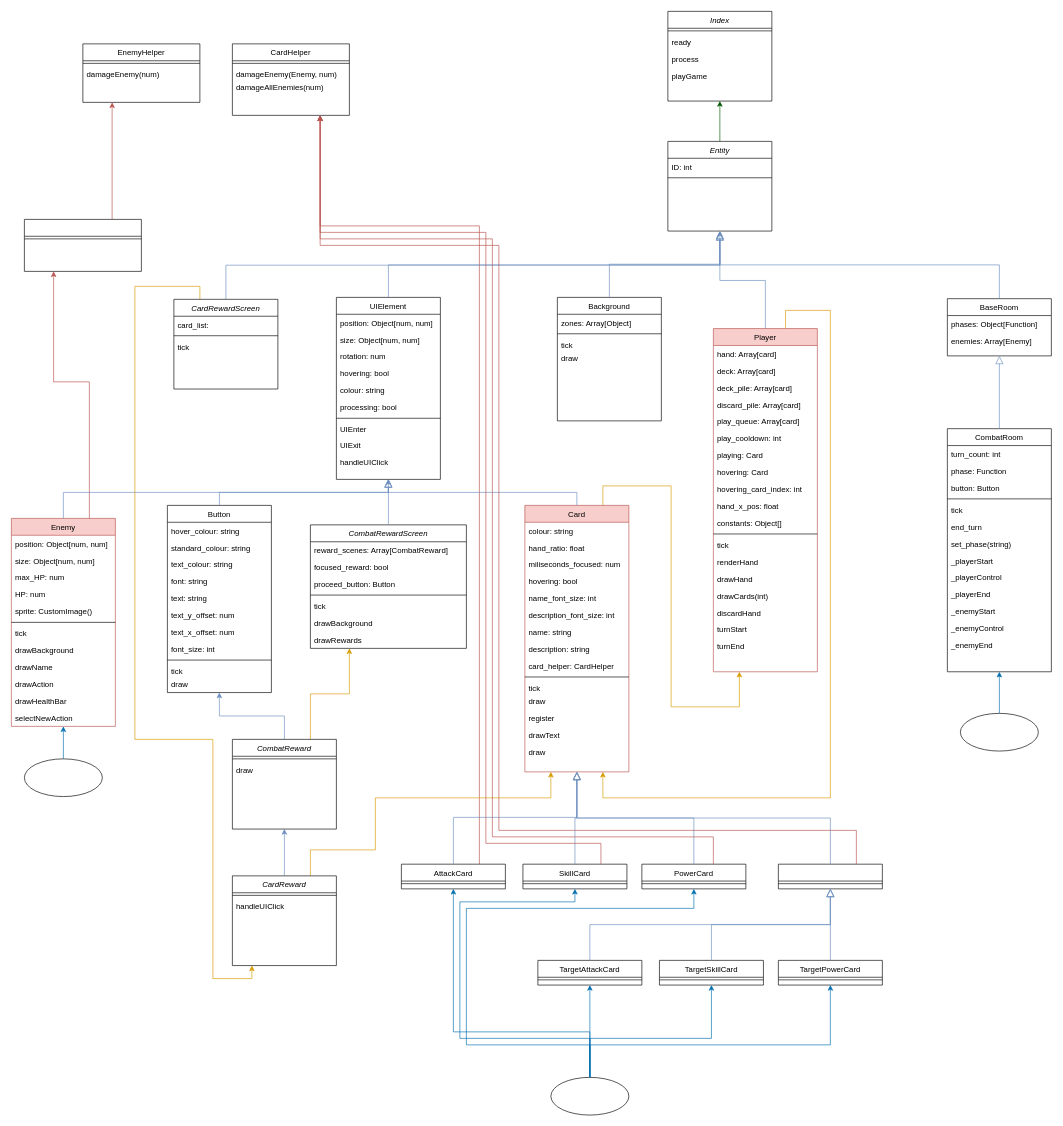
The diagram is 1063 pixels wide and 1126 high, and some of its shapes have lost their labels. Each missing label, with the centre of its shape:
Cards: the point at 589,1096
Combat Rooms: the point at 999,732
Enemies: the point at 63,777
EnemyAction: the point at 82,245
TargetCard: the point at 830,876
